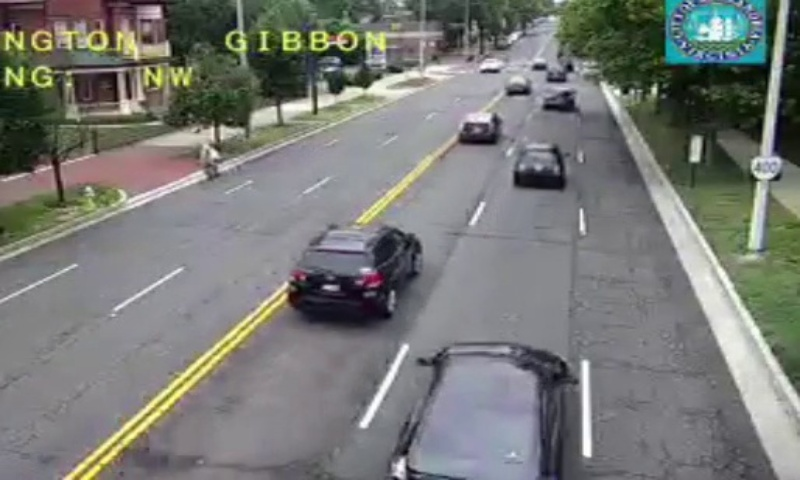car: (392, 342, 568, 480), (289, 229, 421, 314), (513, 145, 563, 182), (459, 112, 498, 142)
